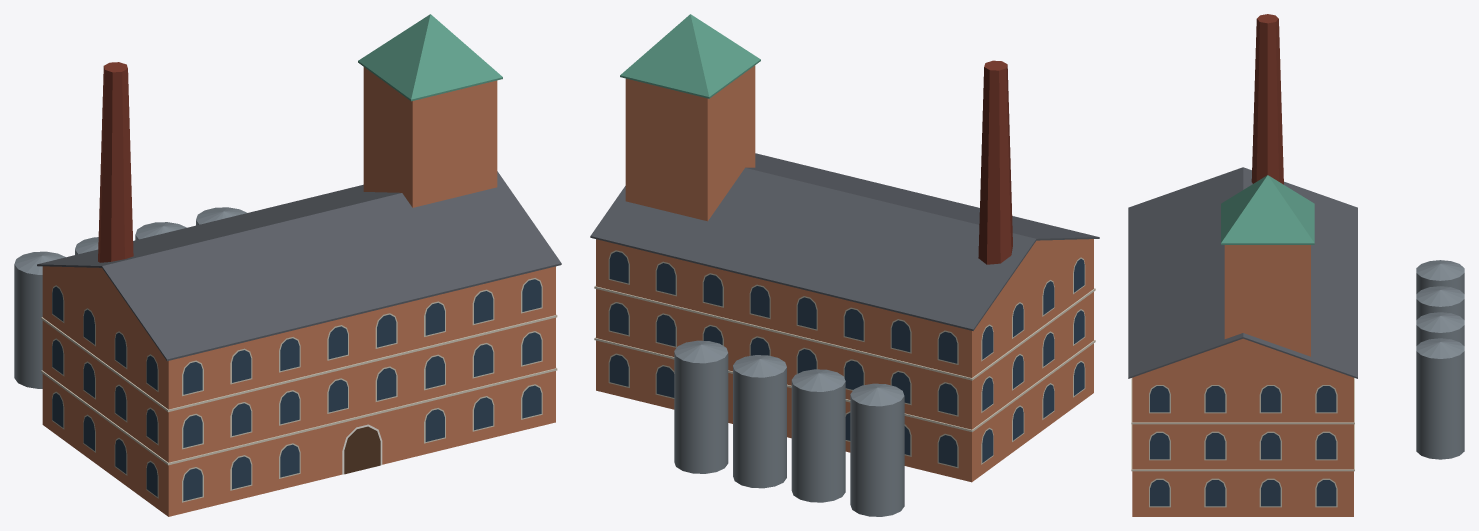
File: brasserie.glb
3 views of the same model, side by side, from view 1: azimuth 30°, elevation 25°; view 2: azimuth 150°, elevation 25°; view 3: azimuth 270°, elevation 25° (orthographic). The views are drawn at different scales.
Visible parts, largest first — view 1: brasserie; view 2: brasserie; view 3: brasserie.
Part boxes in pixels (left/top/right/bottom): brasserie: left=14, top=14, right=561, bottom=516; brasserie: left=590, top=14, right=1099, bottom=516; brasserie: left=1128, top=14, right=1464, bottom=516.
Bounding box in the file's own units: 32.6 × 30.6 × 27.25.
Materials: 1 (1 with a texture image).
